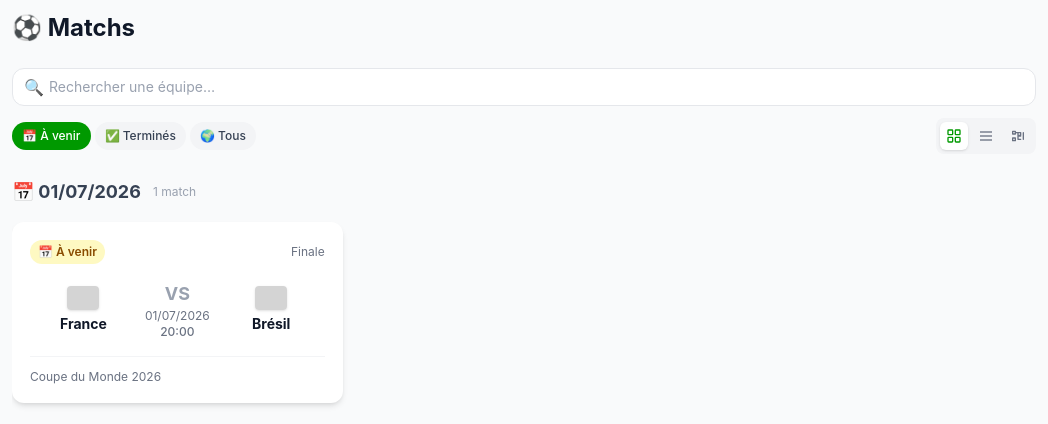
Test: Matches — filtrage › filtre ALL : affiche tous les matchs
Click the button "🌍 Tous" at (223, 136), box [190,122,256,150]
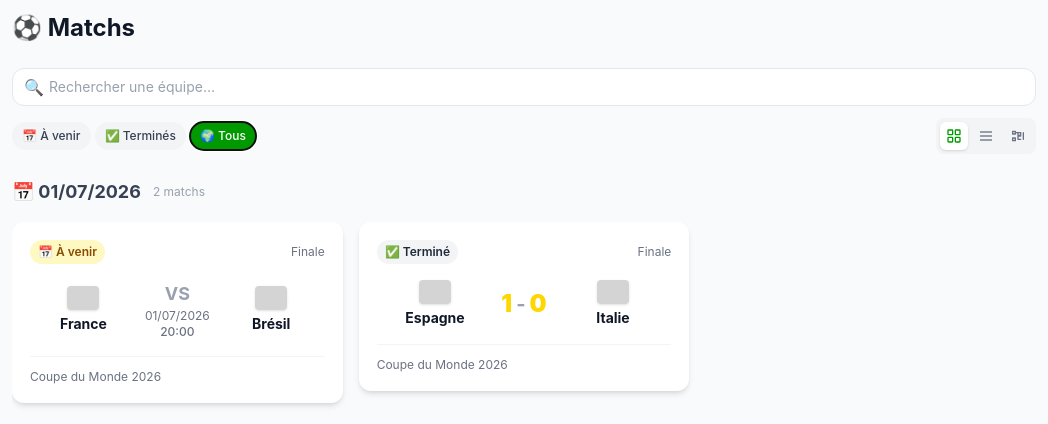
Expected: the text "France" is shown, [60,315,107,332]
Now the text "Espagne" is shown, box [405,309,465,326]
